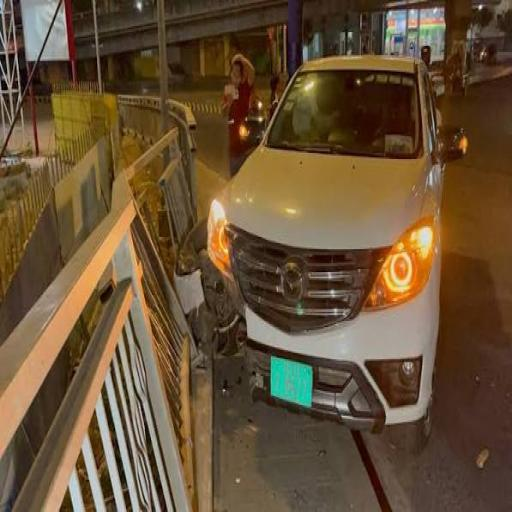Plate Number: (267, 357, 316, 417)
